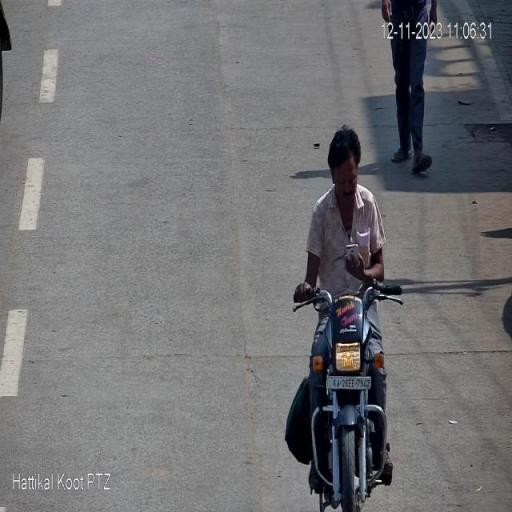using mobile: (344, 233, 364, 275)
